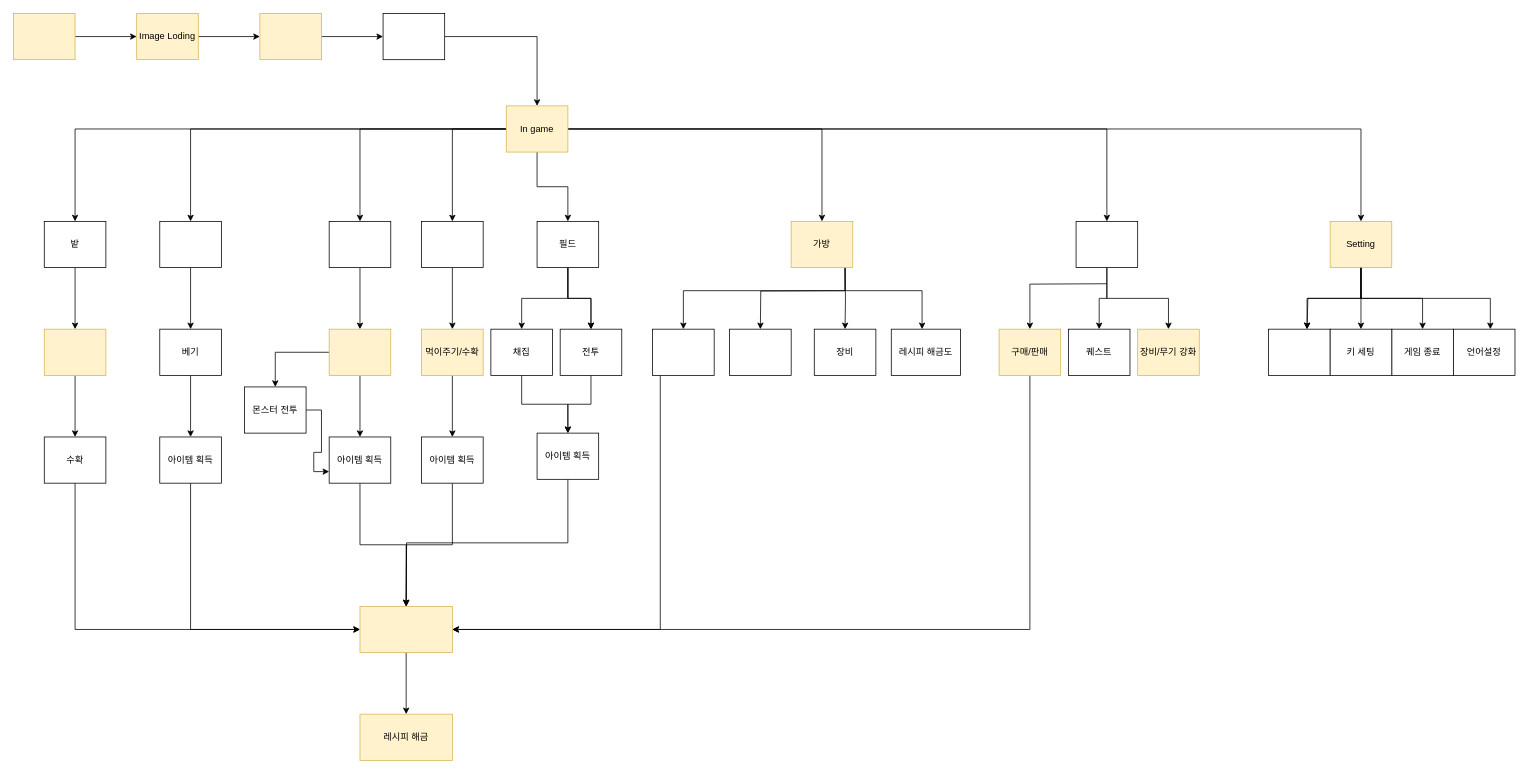
Some shapes in this 1528 by 774 pixel diagram are drawn without their labels. The box of each missing label's shape, as (x1, y1, x2, y2) in pixels:
Data save: (1268, 328, 1330, 375)
Data select: (382, 13, 445, 60)
Game Icon: (13, 13, 75, 60)
Game title: (259, 13, 321, 60)
NPC: (1075, 221, 1138, 268)
나무: (159, 221, 221, 268)
낚시: (328, 328, 391, 375)
동물: (421, 221, 483, 268)
무기/방패: (729, 328, 791, 375)
바다: (328, 221, 391, 268)
아이템: (652, 328, 714, 375)
요리 하기: (359, 606, 452, 653)
일구기/씨뿌리기: (44, 328, 106, 375)
